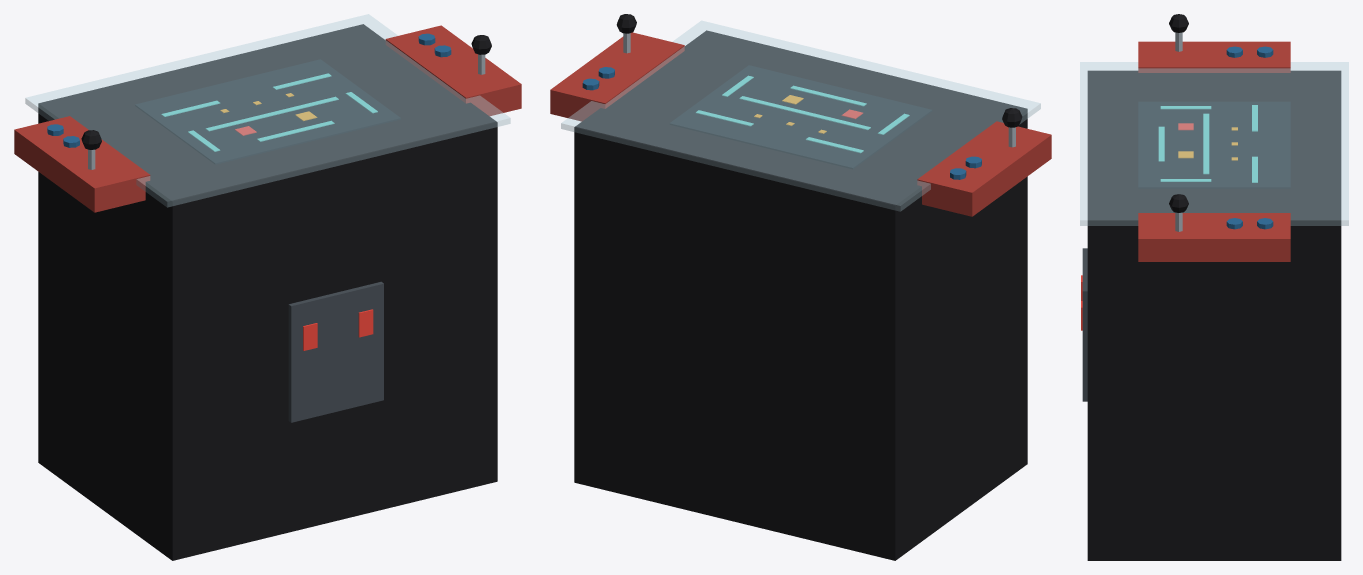
The model's file is GH_ArcadeCocktail_01.glb.
3 views of the same model, side by side, from view 1: azimuth 30°, elevation 25°; view 2: azimuth 150°, elevation 25°; view 3: azimuth 270°, elevation 25° (orthographic). The views are drawn at different scales.
Visible parts, largest first — view 1: GH_ArcadeCocktail_01; view 2: GH_ArcadeCocktail_01; view 3: GH_ArcadeCocktail_01.
Boxes of the visible parts, left/top/right/bottom form: GH_ArcadeCocktail_01: left=14, top=14, right=521, bottom=560; GH_ArcadeCocktail_01: left=550, top=14, right=1051, bottom=560; GH_ArcadeCocktail_01: left=1080, top=14, right=1348, bottom=560.
Size of the model in its own units: 0.92 by 0.83 by 0.53.
Materials: 2 (2 with a texture image).
